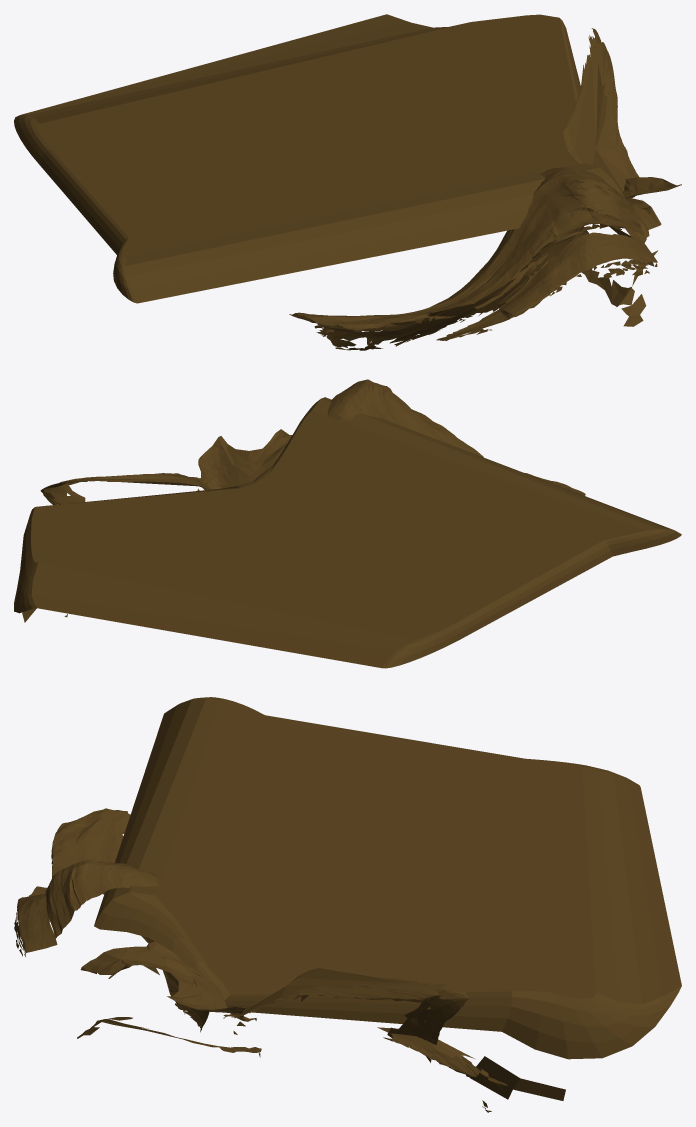
The model's file is GrassTerrain_011_Grass.glb.
The picture shows the model from 3 angles, top to bottom: view 1: azimuth 30°, elevation 25°; view 2: azimuth 150°, elevation 25°; view 3: azimuth 270°, elevation 25°; orthographic projection. The views are drawn at different scales.
Parts seen in each view (by area): view 1: 立方体.011_Grass; view 2: 立方体.011_Grass; view 3: 立方体.011_Grass.
Part boxes in pixels (left/top/right/bottom): 立方体.011_Grass: left=14, top=14, right=681, bottom=350; 立方体.011_Grass: left=14, top=379, right=681, bottom=668; 立方体.011_Grass: left=14, top=697, right=681, bottom=1112.
Bounding box in the file's own units: 422 × 113 × 396.
